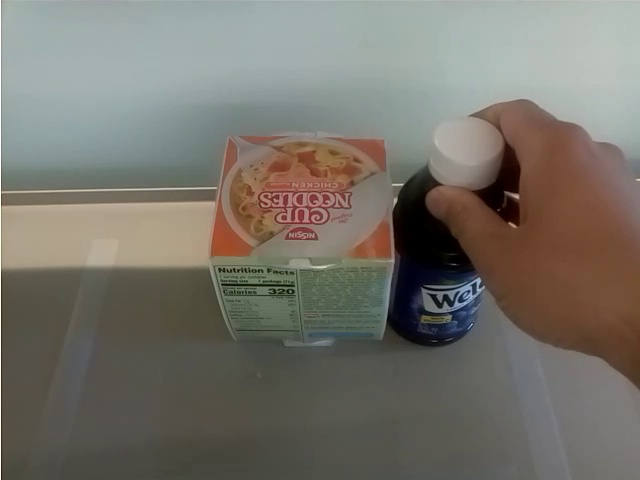hand: (426, 70, 640, 382)
juice: (389, 110, 502, 352)
noodles: (207, 133, 396, 342)
